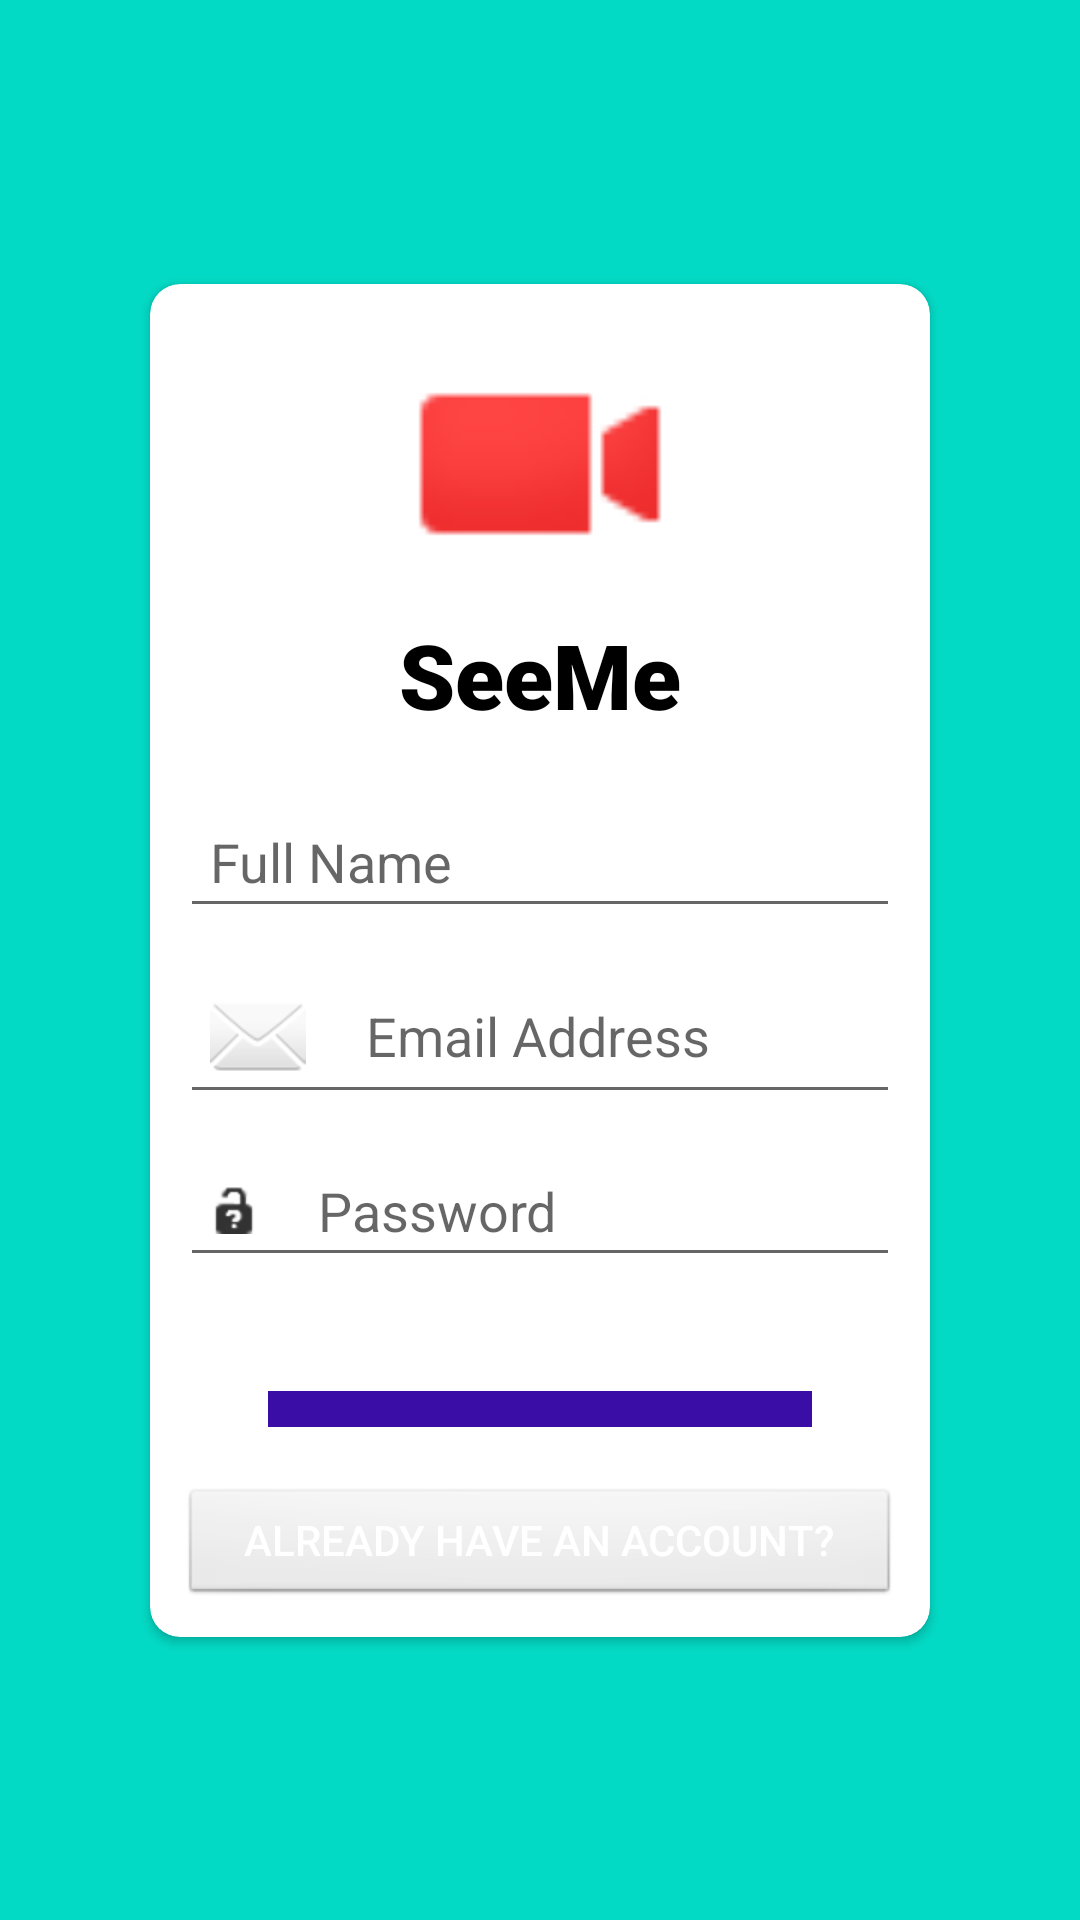

Where to tap for icons on this 1080x1920 app screen, as (x,y):
presence video busy: (540,464)
